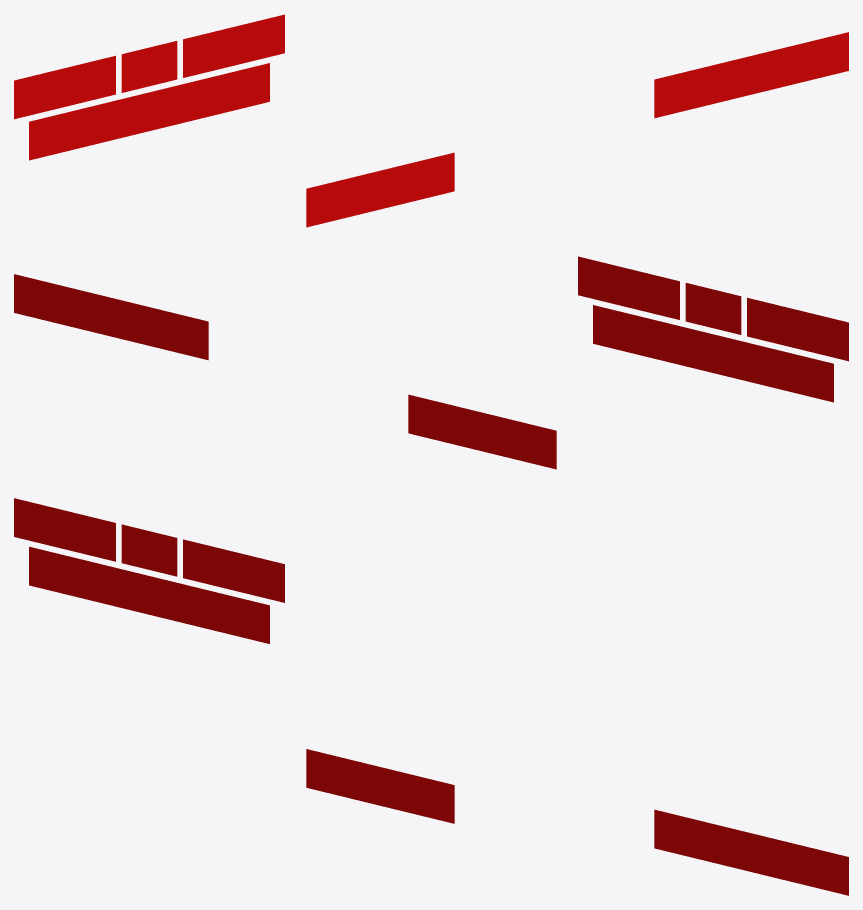
Rendered from ModDetailMenuScreen.fbx.
The picture shows the model from 3 angles, top to bottom: view 1: azimuth 30°, elevation 25°; view 2: azimuth 150°, elevation 25°; view 3: azimuth 330°, elevation 25°; orthographic projection.
Parts seen in each view (by area): view 1: Highlight (×6); view 2: Highlight (×6); view 3: Highlight (×6).
Boxes of the visible parts, x1,y1,x2,y2 form: Highlight (×6): [14, 14, 848, 227]; Highlight (×6): [14, 256, 848, 469]; Highlight (×6): [14, 498, 848, 895].
Size of the model in its own units: 9 by 2.25 by 0.
